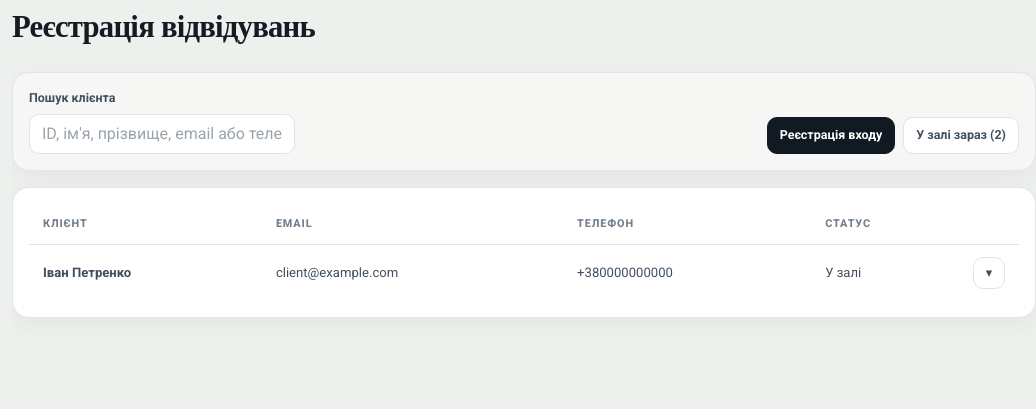
it: CheckInPage › filters active visitors by search term
Click the button "У залі зараз (2)" at (961, 135), box [903,117,1019,154]
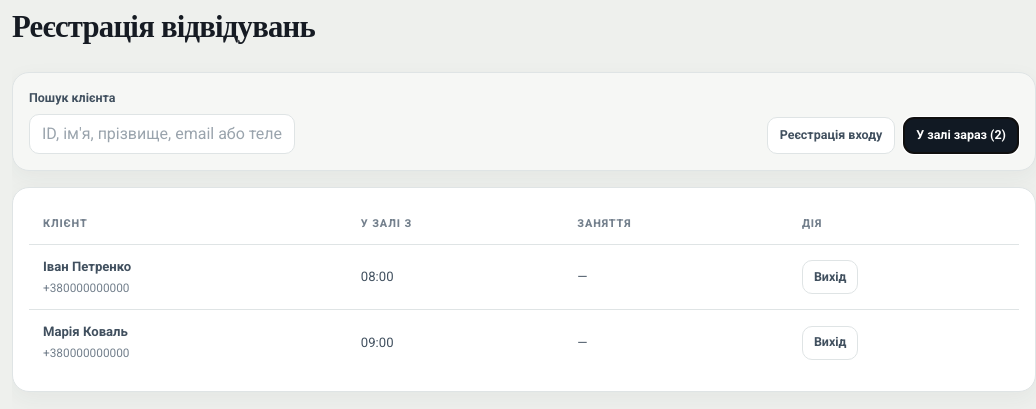
Type "Марія" into the field named "Пошук клієнта у залі" at (162, 134), box [29,114,295,154]
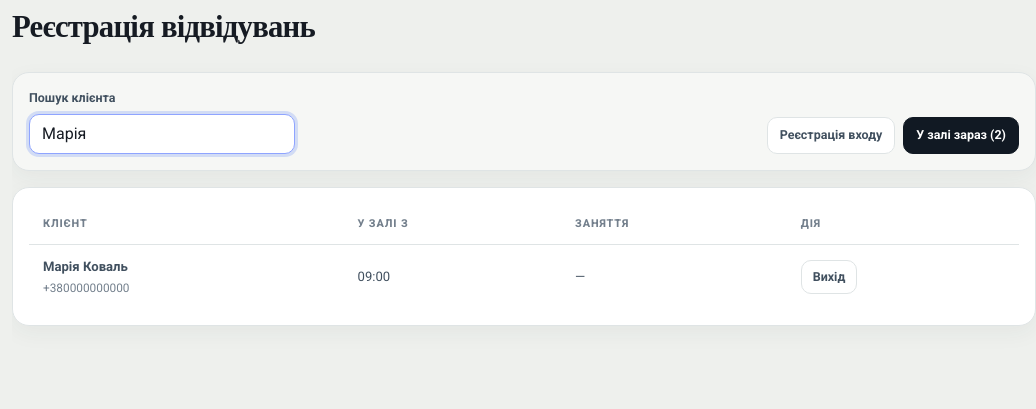
Result: the text "Марія Коваль" is shown at [43,259,128,274]
Result: the text "Іван Петренко" is gone
